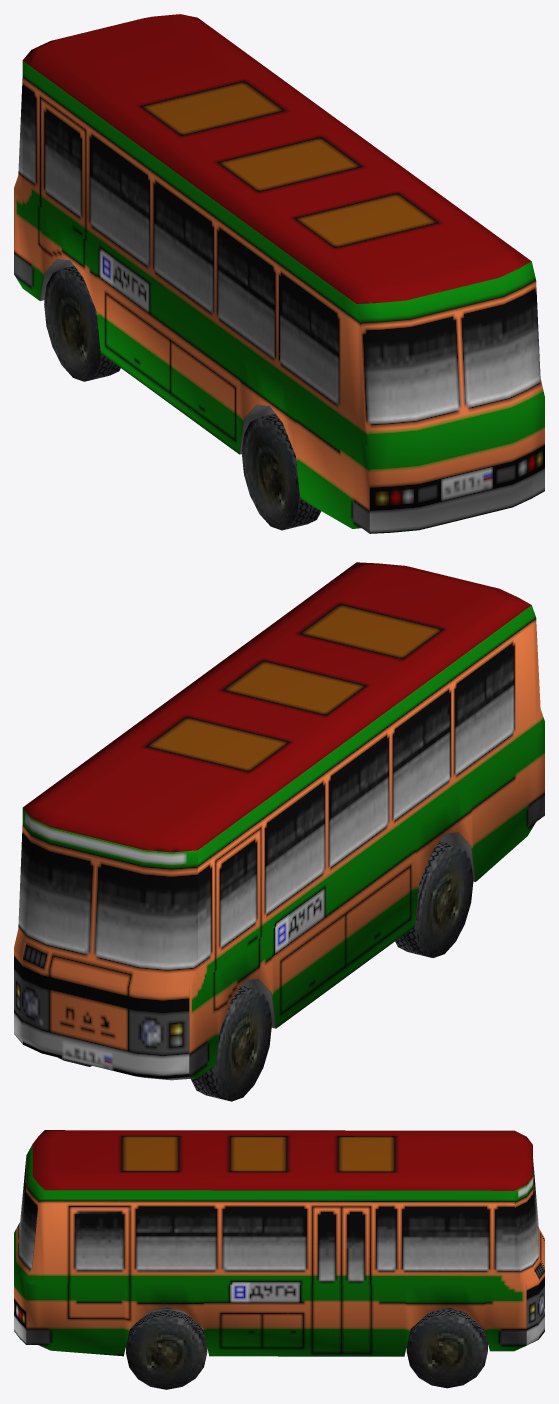
The model's file is Bus.fbx.
3 views of the same model, one above another, from view 1: azimuth 30°, elevation 25°; view 2: azimuth 150°, elevation 25°; view 3: azimuth 270°, elevation 25° (orthographic). The views are drawn at different scales.
Visible parts, largest first — view 1: Paz3205green; view 2: Paz3205green; view 3: Paz3205green.
Boxes of the visible parts, x1,y1,x2,y2 form: Paz3205green: (14,14,544,533); Paz3205green: (14,562,544,1101); Paz3205green: (14,1130,544,1389).
Size of the model in its own units: 1344 by 2153 by 5014.
